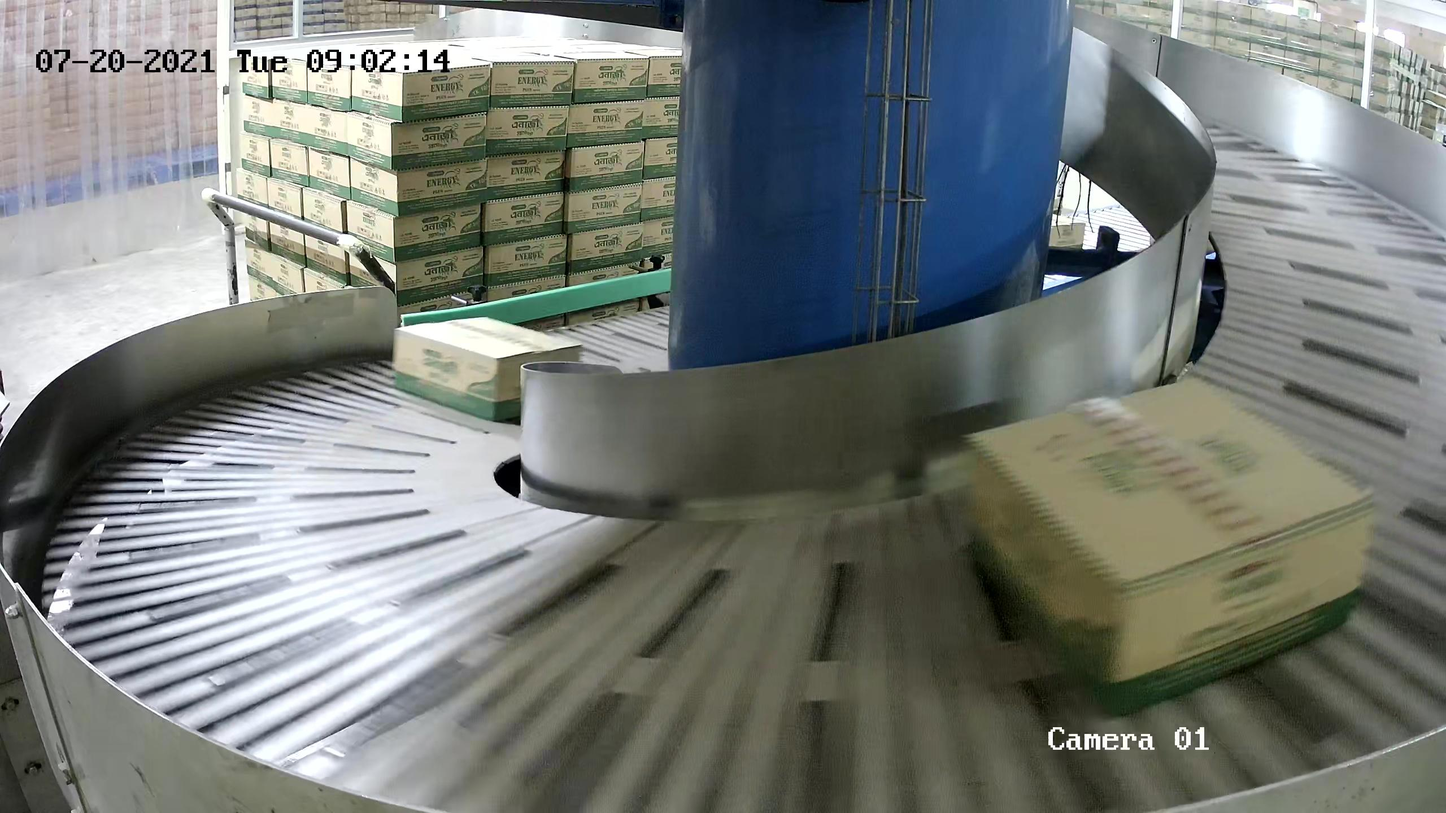Box: (962, 374, 1378, 719), (391, 316, 585, 424)
